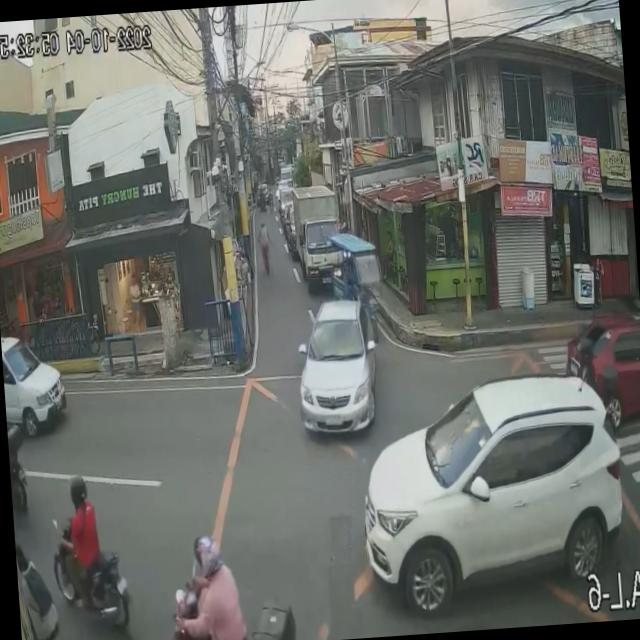full: (190, 526, 222, 582)
